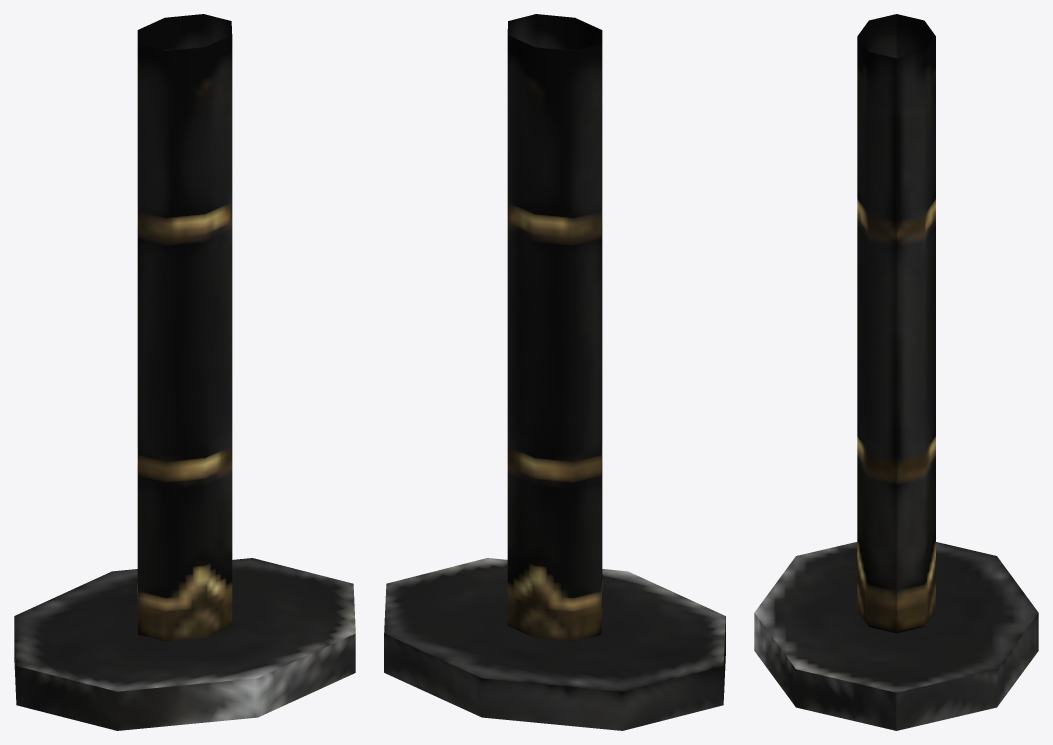
Rendered from Straightsword_grip_default.FBX.
3 renders of one model, left to right at view 1: azimuth 30°, elevation 25°; view 2: azimuth 150°, elevation 25°; view 3: azimuth 270°, elevation 25°, orthographic. The views are drawn at different scales.
Visible parts, largest first — view 1: Straightsword_grip_default; view 2: Straightsword_grip_default; view 3: Straightsword_grip_default.
Part boxes in pixels (bbox=[...]): Straightsword_grip_default: bbox=[14, 14, 355, 730]; Straightsword_grip_default: bbox=[384, 14, 725, 730]; Straightsword_grip_default: bbox=[754, 14, 1038, 730].
Bounding box in the file's own units: 15.31 × 27.4 × 11.48.
1 material, 1 textured.
